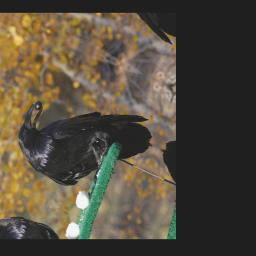Crow: (10, 69, 159, 217)
